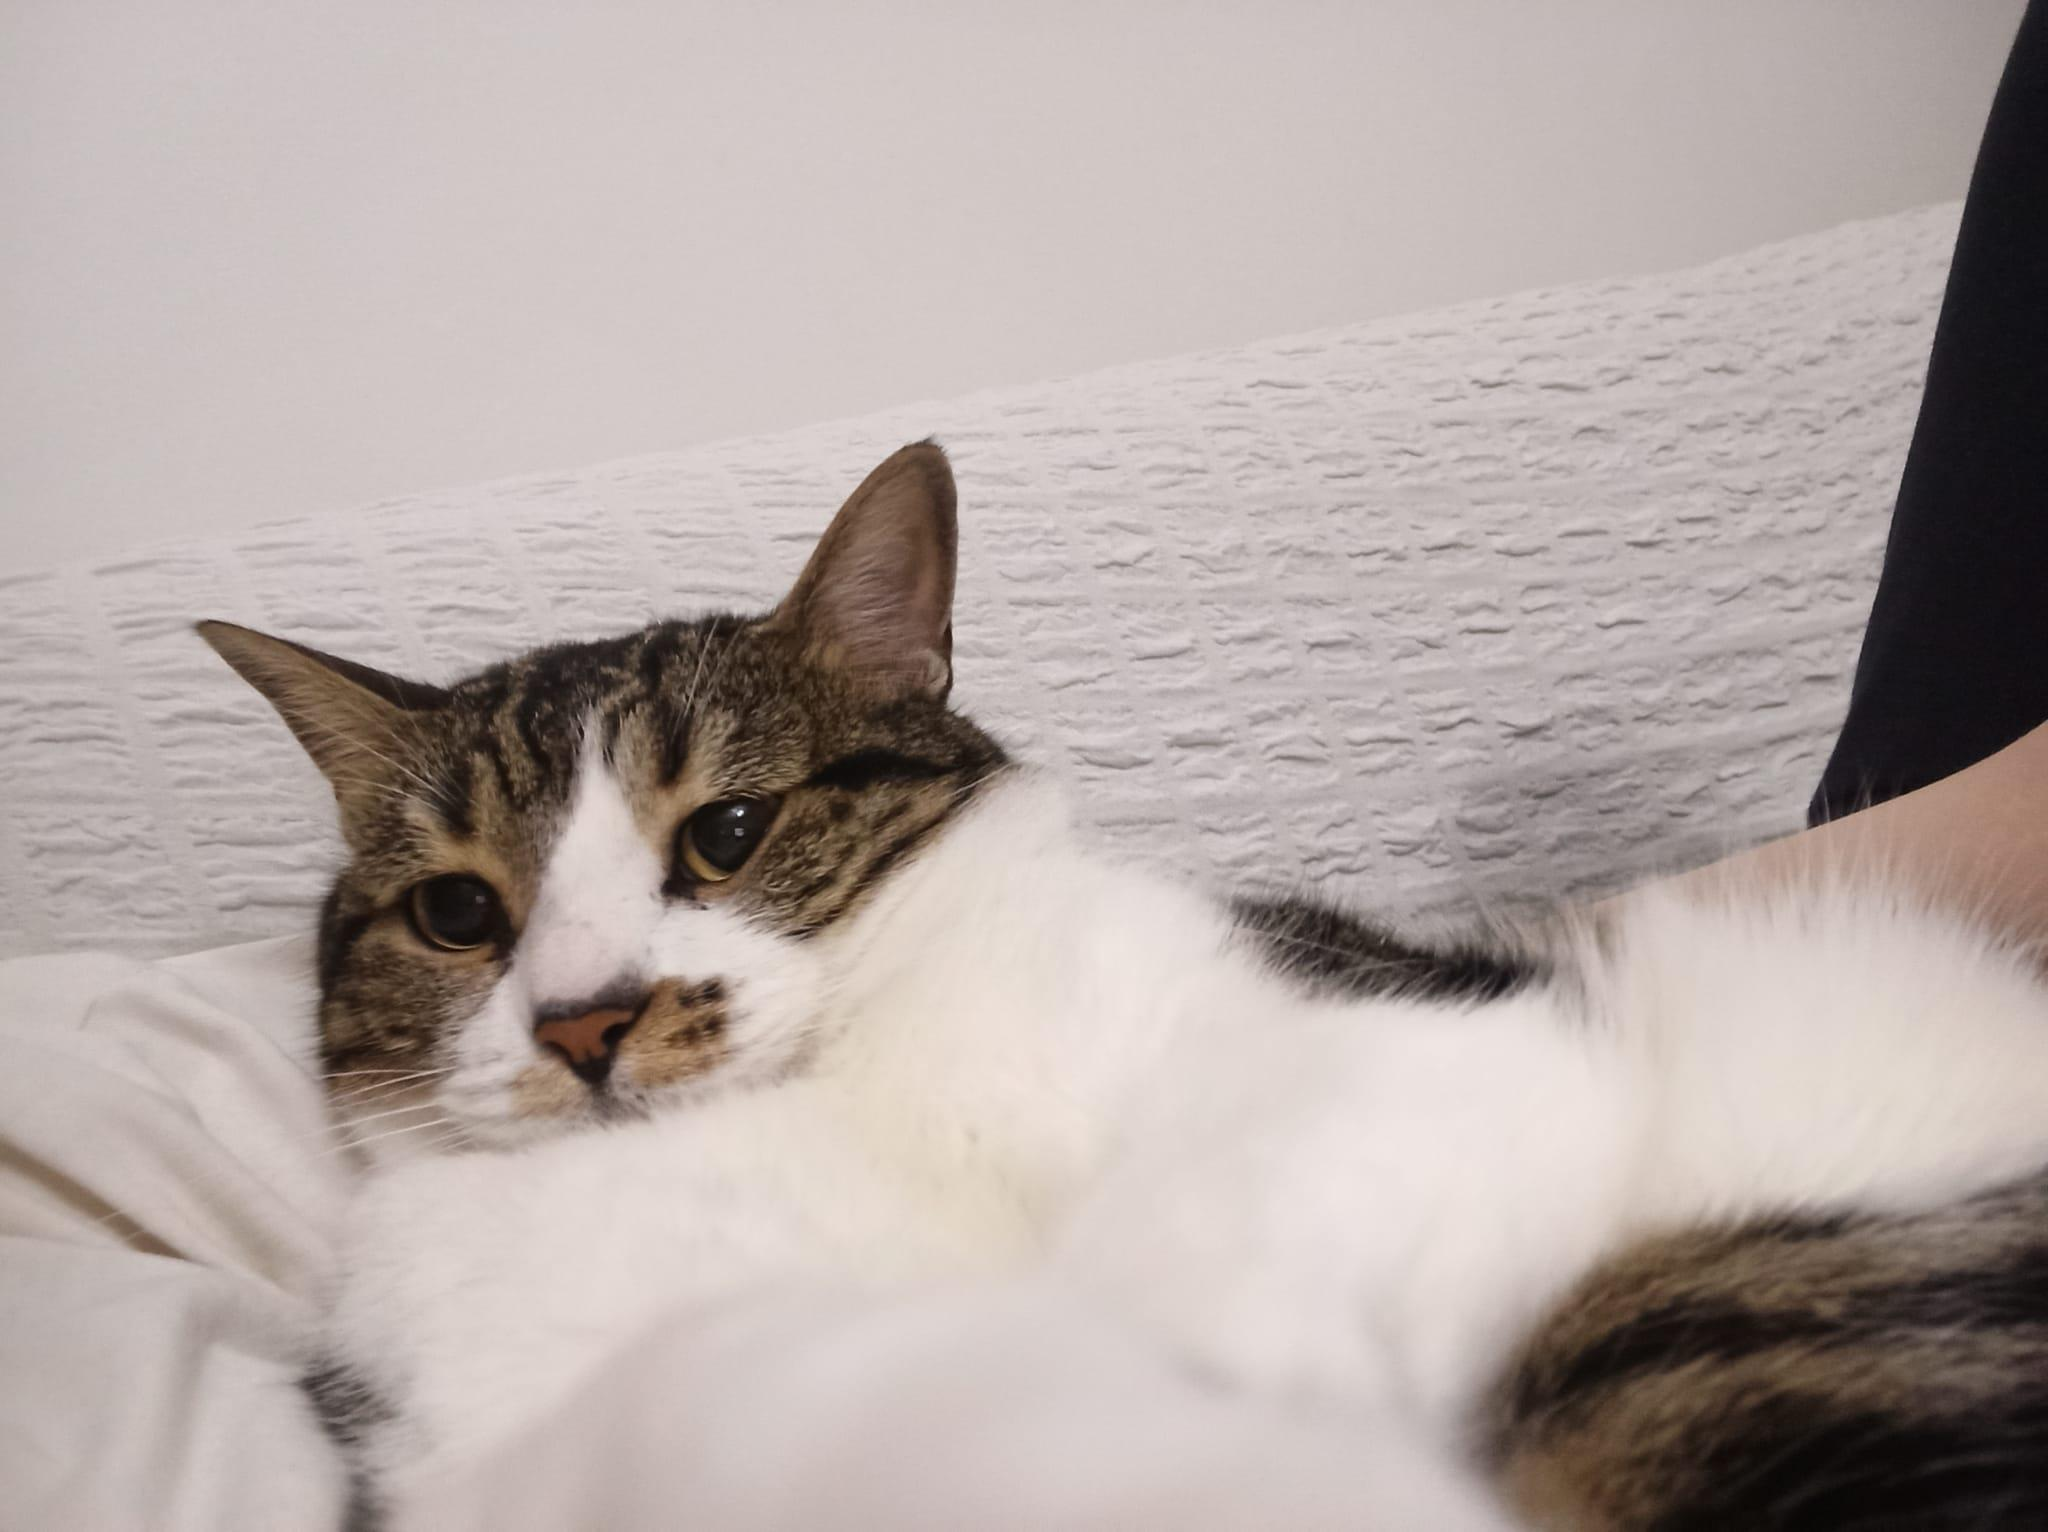kedo: (213, 440, 2048, 1510)
